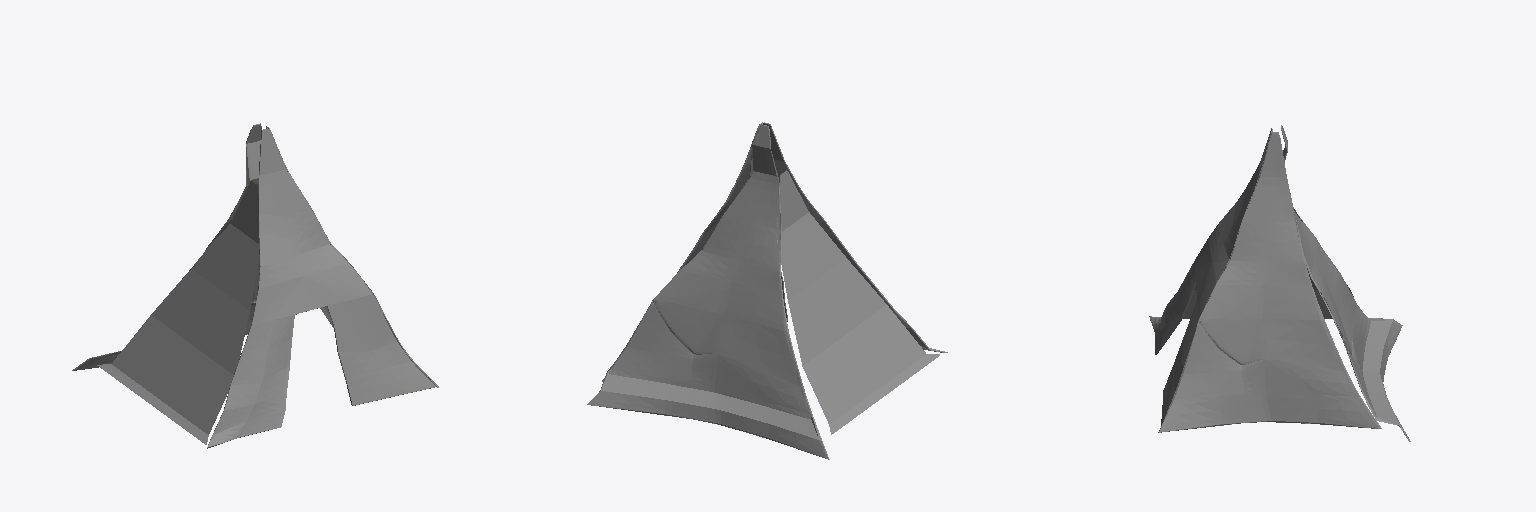
The model's file is tent_sheets.obj.
3 renders of one model, left to right at view 1: azimuth 30°, elevation 25°; view 2: azimuth 150°, elevation 25°; view 3: azimuth 270°, elevation 25°, orthographic.
Visible parts, largest first — view 1: Object02, Plane04, Object01.001; view 2: Object01.001, Plane04, Object02, Object01; view 3: Object01, Object01.001, Object02.
Boxes of the visible parts, x1,y1,x2,y2 form: Object02: [207, 128, 435, 448]; Plane04: [97, 181, 259, 444]; Object01.001: [72, 123, 296, 370]; Object01.001: [587, 124, 829, 459]; Plane04: [776, 170, 939, 434]; Object02: [763, 122, 947, 352]; Object01: [602, 122, 762, 381]; Object01: [1158, 132, 1381, 432]; Object01.001: [1281, 125, 1410, 441]; Object02: [1149, 128, 1272, 425].
Size of the model in its own units: 80.07 by 81.46 by 73.76.